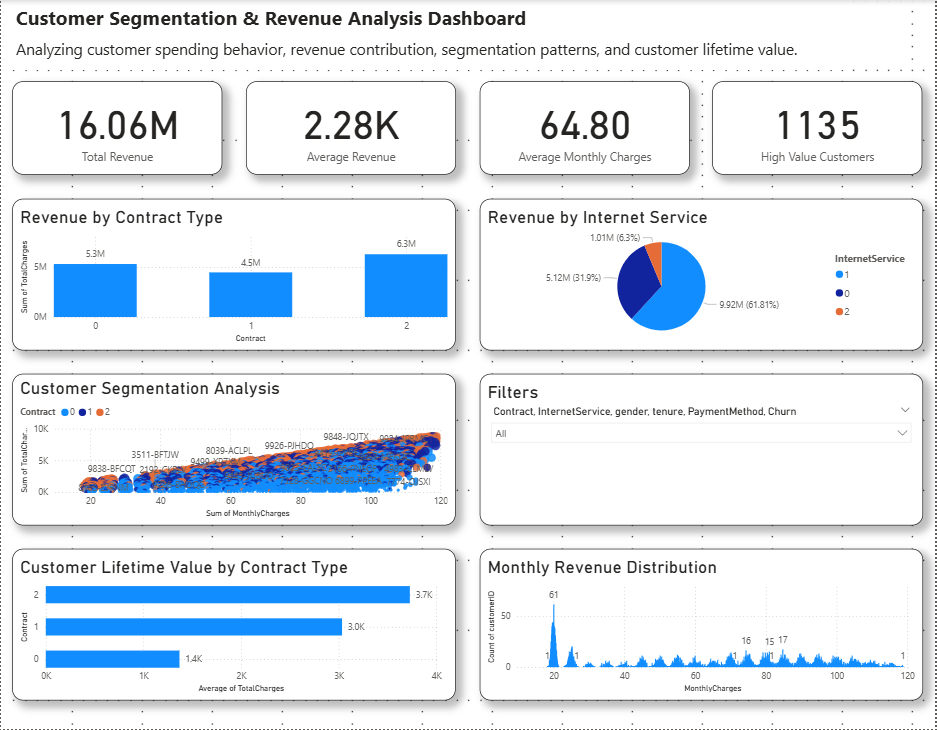

What the dashboard file says about the page in this screenshot:
{"tool":"powerbi","page":{"name":"Customer Segmentation & Revenue Analysis","canvas":[1280,1000],"ordinal":2},"visuals":[{"type":"textbox","box":[16,0,1152,48],"z":0},{"type":"textbox","box":[16,48,1152,48],"z":1000},{"type":"card","fields":{"Values":["clean_events.Total Revenue"]},"box":[16,112,288,128],"z":2000},{"type":"card","fields":{"Values":["clean_events.Average Revenue"]},"box":[336,112,288,128],"z":3000},{"type":"card","fields":{"Values":["clean_events.Average Monthly Charges"]},"box":[656,112,288,128],"z":4000},{"type":"card","fields":{"Values":["clean_events.High Value Customers"]},"box":[976,112,288,128],"z":5000},{"type":"clusteredColumnChart","title":"Revenue by Contract Type","fields":{"Category":["clean_events.Contract"],"Y":["Sum(clean_events.TotalCharges)"]},"box":[16,272,608,208],"z":6000},{"type":"pieChart","title":"Revenue by Internet Service","fields":{"Category":["clean_events.InternetService"],"Y":["Sum(clean_events.TotalCharges)"]},"box":[656,272,608,208],"z":7000},{"type":"scatterChart","title":"Customer Segmentation Analysis","fields":{"X":["Sum(clean_events.MonthlyCharges)"],"Y":["Sum(clean_events.TotalCharges)"],"Category":["clean_events.customerID"],"Size":["Sum(clean_events.tenure)"],"Series":["clean_events.Contract"]},"box":[16,512,608,208],"z":8000},{"type":"barChart","title":"Customer Lifetime Value by Contract Type","fields":{"Category":["clean_events.Contract"],"Y":["Avg(clean_events.TotalCharges)"]},"box":[16,752,608,208],"z":9000},{"type":"clusteredColumnChart","title":"Monthly Revenue Distribution","fields":{"Category":["clean_events.MonthlyCharges"],"Y":["CountNonNull(clean_events.customerID)"]},"box":[656,752,608,208],"z":10000},{"type":"slicer","title":"Filters","fields":{"Values":["clean_events.Contract","clean_events.InternetService","clean_events.gender","clean_events.tenure","clean_events.PaymentMethod","clean_events.Churn"]},"box":[656,512,608,208],"z":11000}]}

Visuals, with their boxes in screenshot pixels (x1, y1, x2, y2), scaled from the page's 1280x1000 canvas onto the 937x730 screenshot:
textbox: box(12, 0, 855, 35)
textbox: box(12, 35, 855, 70)
card - clean_events.Total Revenue: box(12, 82, 223, 175)
card - clean_events.Average Revenue: box(246, 82, 457, 175)
card - clean_events.Average Monthly Charges: box(480, 82, 691, 175)
card - clean_events.High Value Customers: box(714, 82, 925, 175)
"Revenue by Contract Type" clusteredColumnChart: box(12, 199, 457, 350)
"Revenue by Internet Service" pieChart: box(480, 199, 925, 350)
"Customer Segmentation Analysis" scatterChart: box(12, 374, 457, 526)
"Customer Lifetime Value by Contract Type" barChart: box(12, 549, 457, 701)
"Monthly Revenue Distribution" clusteredColumnChart: box(480, 549, 925, 701)
"Filters" slicer: box(480, 374, 925, 526)
